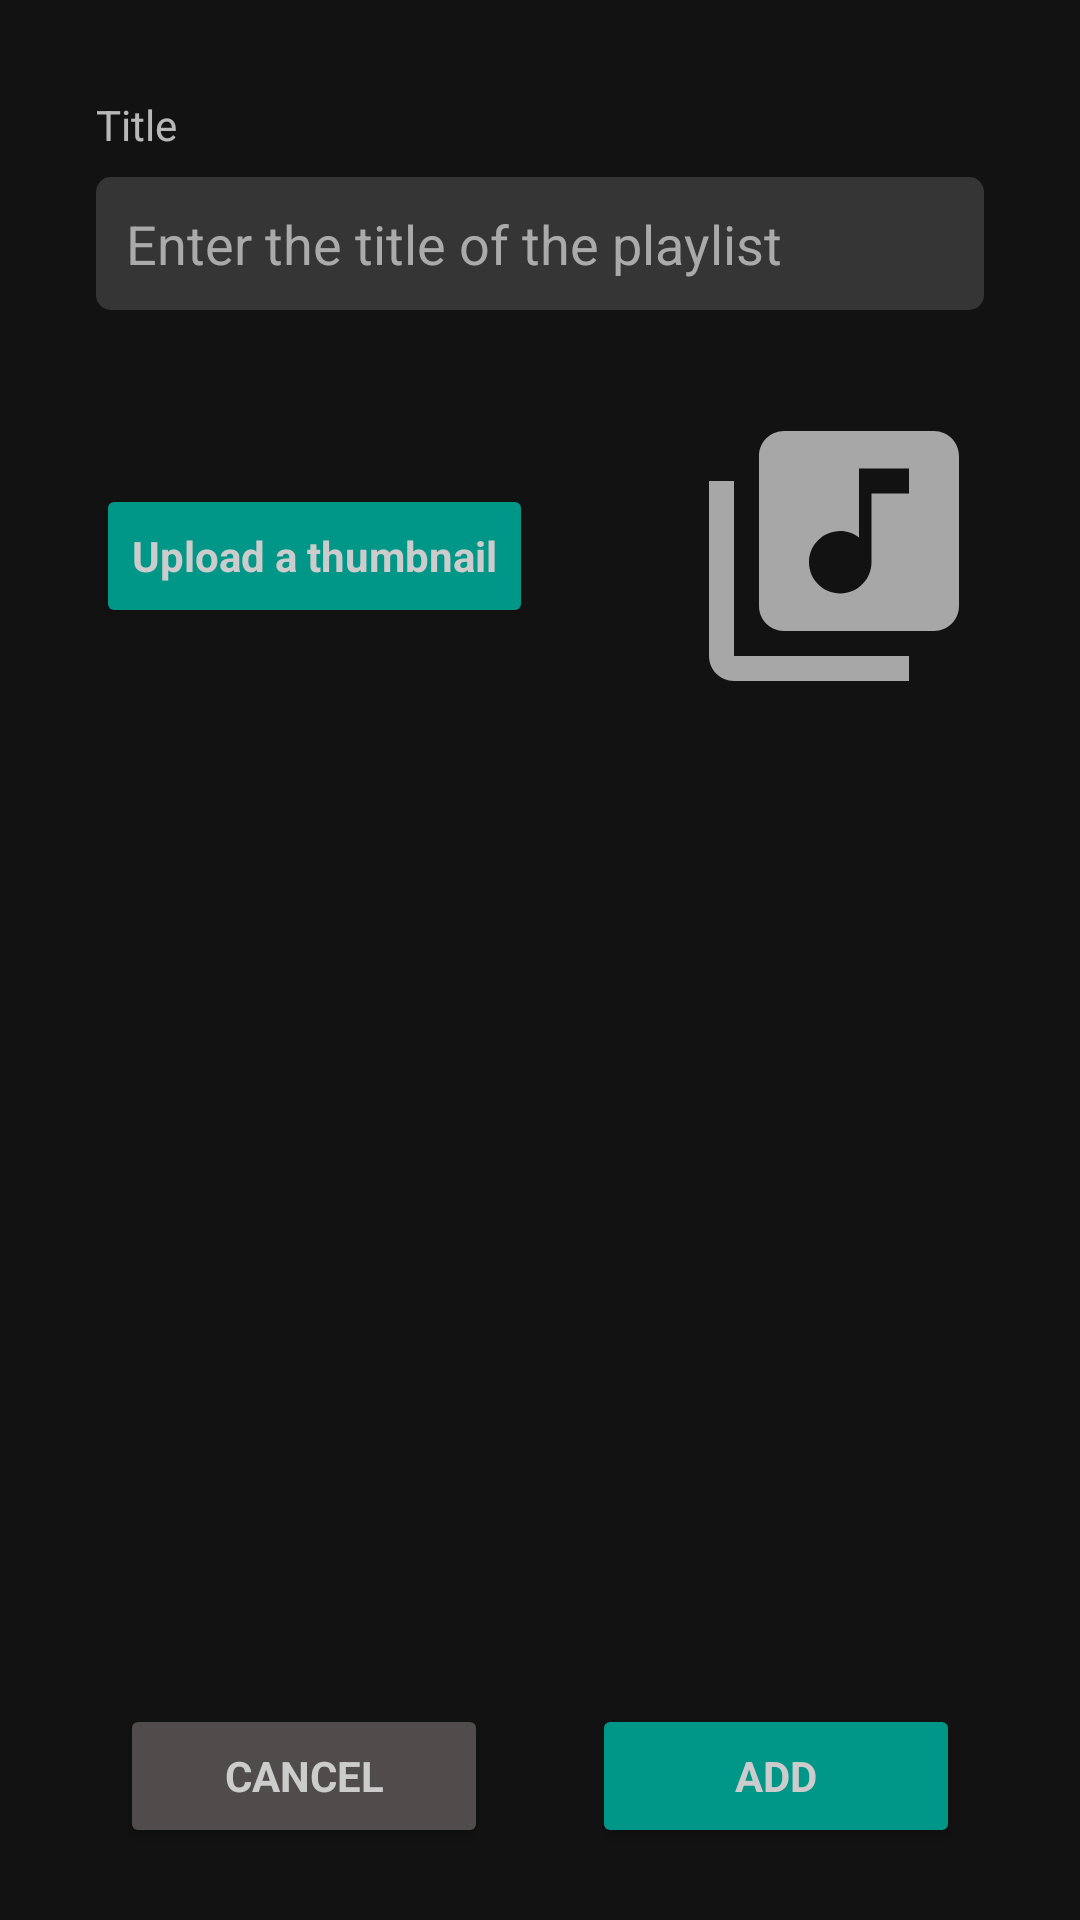

Icon click points for this 1080 x 1920 phone screenshot, format point (x, y):
library music: point (834, 556)
